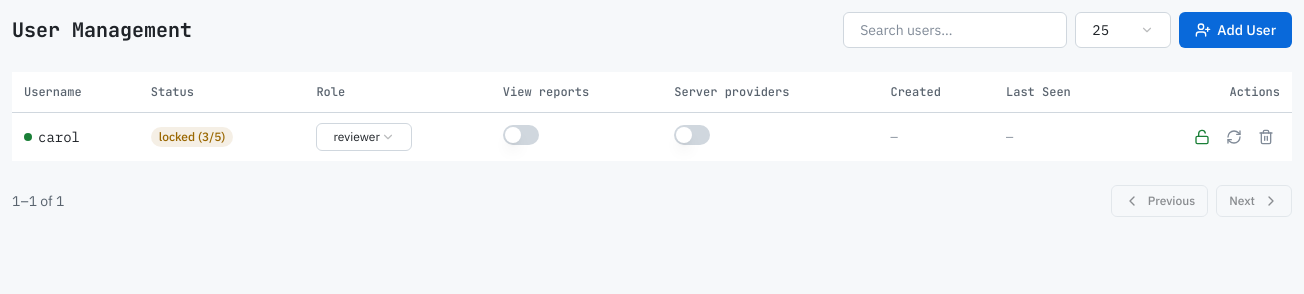
Scenario: UsersPage account state › surfaces a failed unlock inline and keeps the row
The width and height of the screenshot is (1304, 294).
Click the button named "Unlock carol" at [1202, 136], box x1=1188 y1=122 x2=1216 y2=150
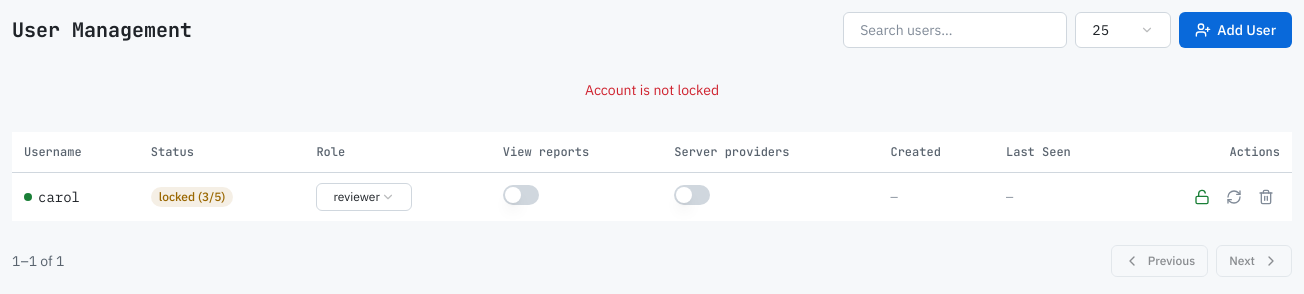
Expected: the text "carol" is shown, x1=24 y1=187 x2=80 y2=207
Expected: the message "Account is not locked" is shown, x1=585 y1=81 x2=719 y2=99
